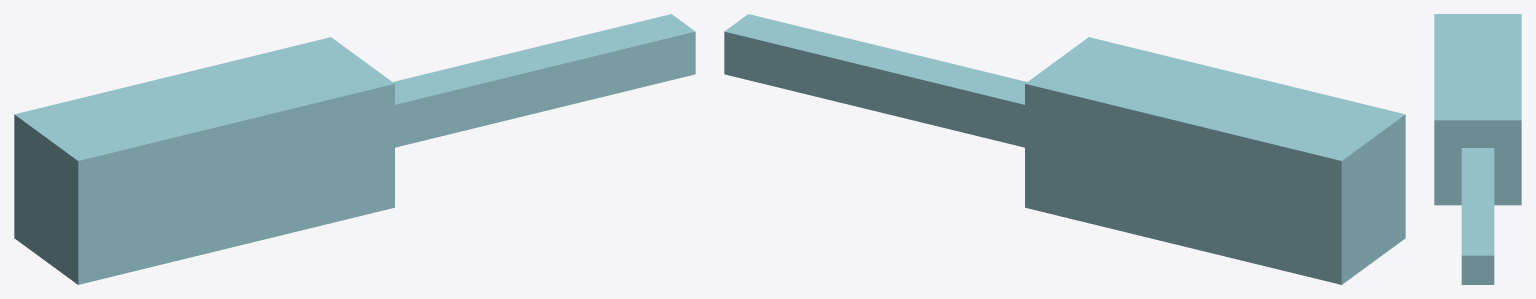
File: cuboid_screwdriver_v2013.obj
The picture shows the model from 3 angles, left to right: view 1: azimuth 30°, elevation 25°; view 2: azimuth 150°, elevation 25°; view 3: azimuth 270°, elevation 25°; orthographic projection. The views are drawn at different scales.
Size of the model in its own units: 0.1575 by 0.0293 by 0.0273.
Materials: 1 (1 with a texture image).
